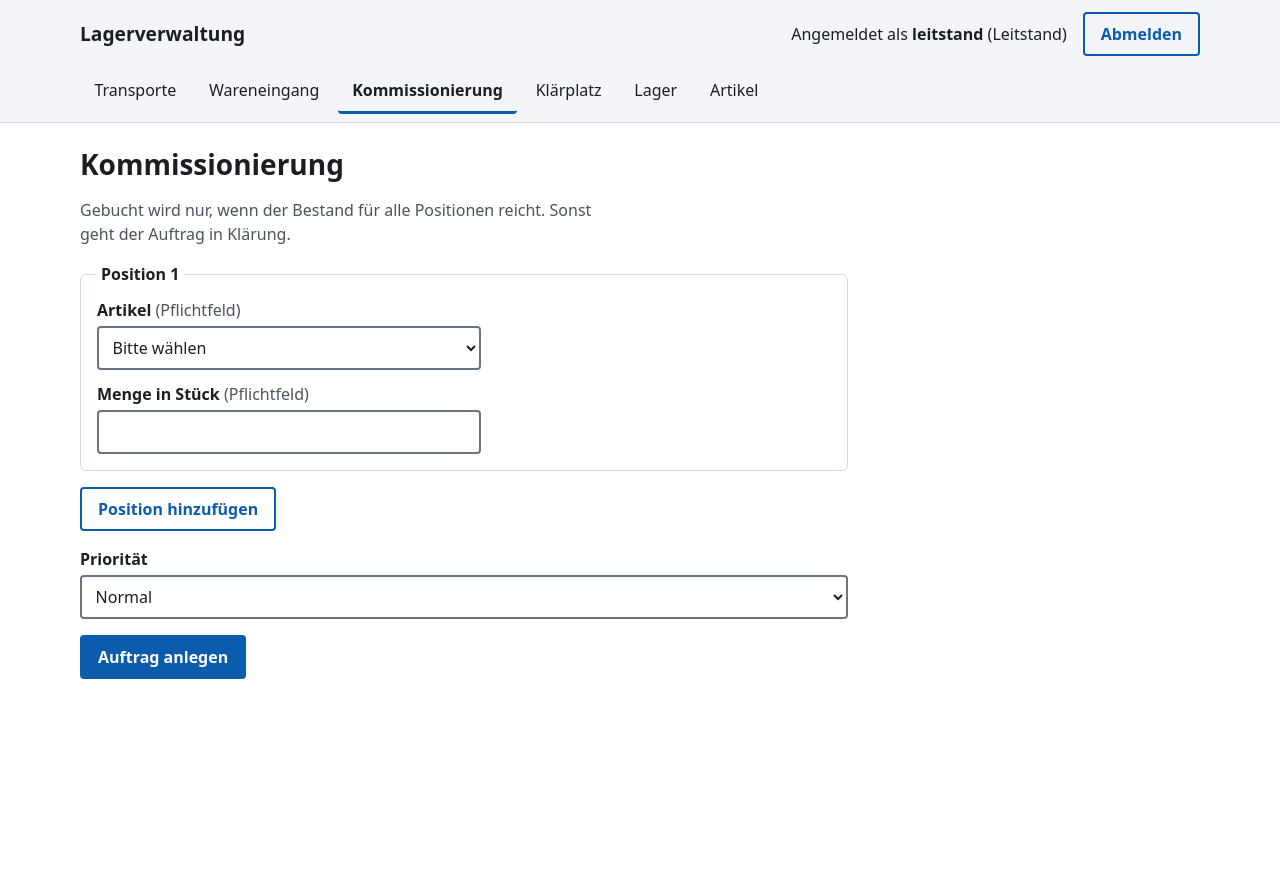
Kommissionierung: Fokus folgt beim Hinzufügen und Entfernen von Positionen
What coordinates should you click on to do the following:
click the button "Position hinzufügen"
I would click on:
 (178, 509)
Its box is [80, 487, 276, 531].
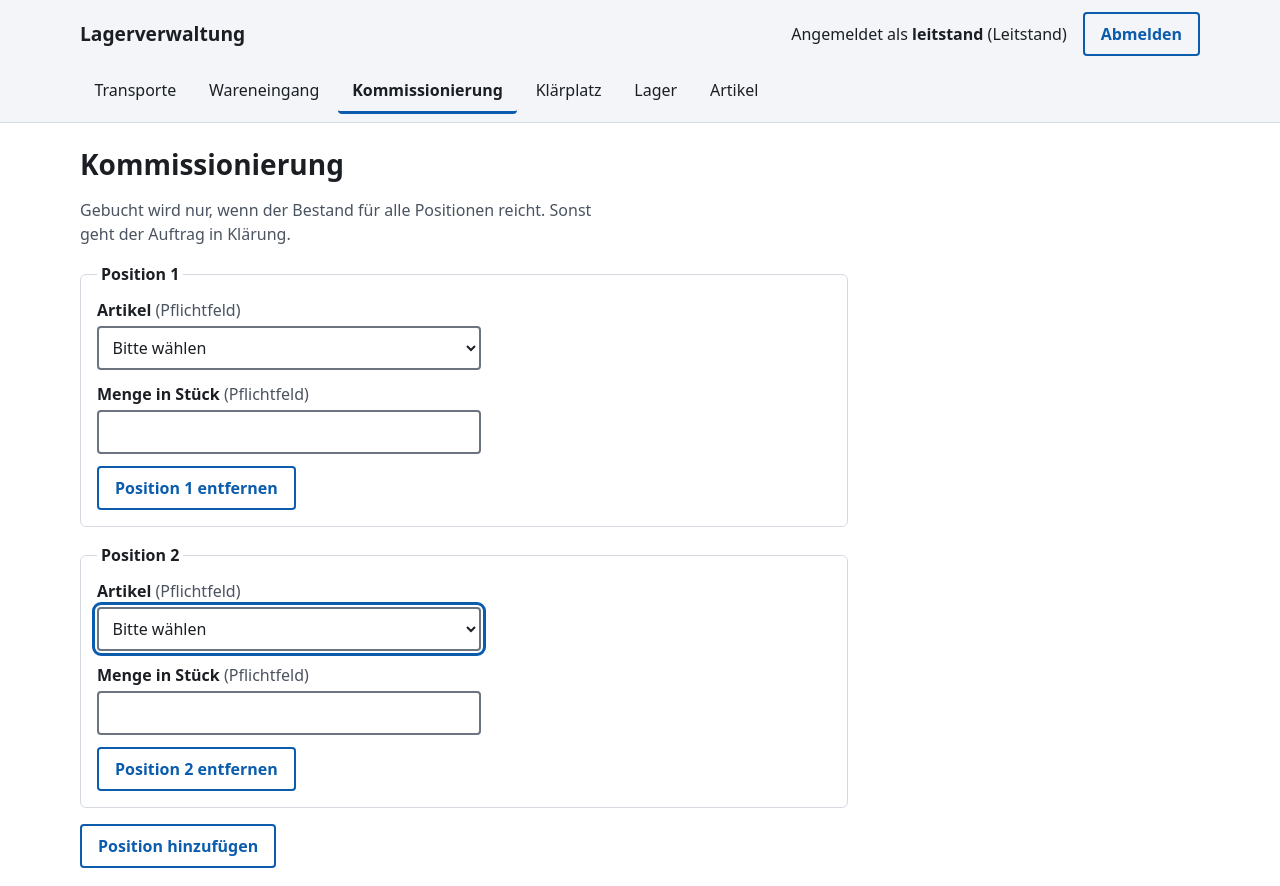
What coordinates should you click on to do the following:
click the button "Position 2 entfernen"
I would click on:
 (196, 769)
Its box is [97, 747, 296, 791].
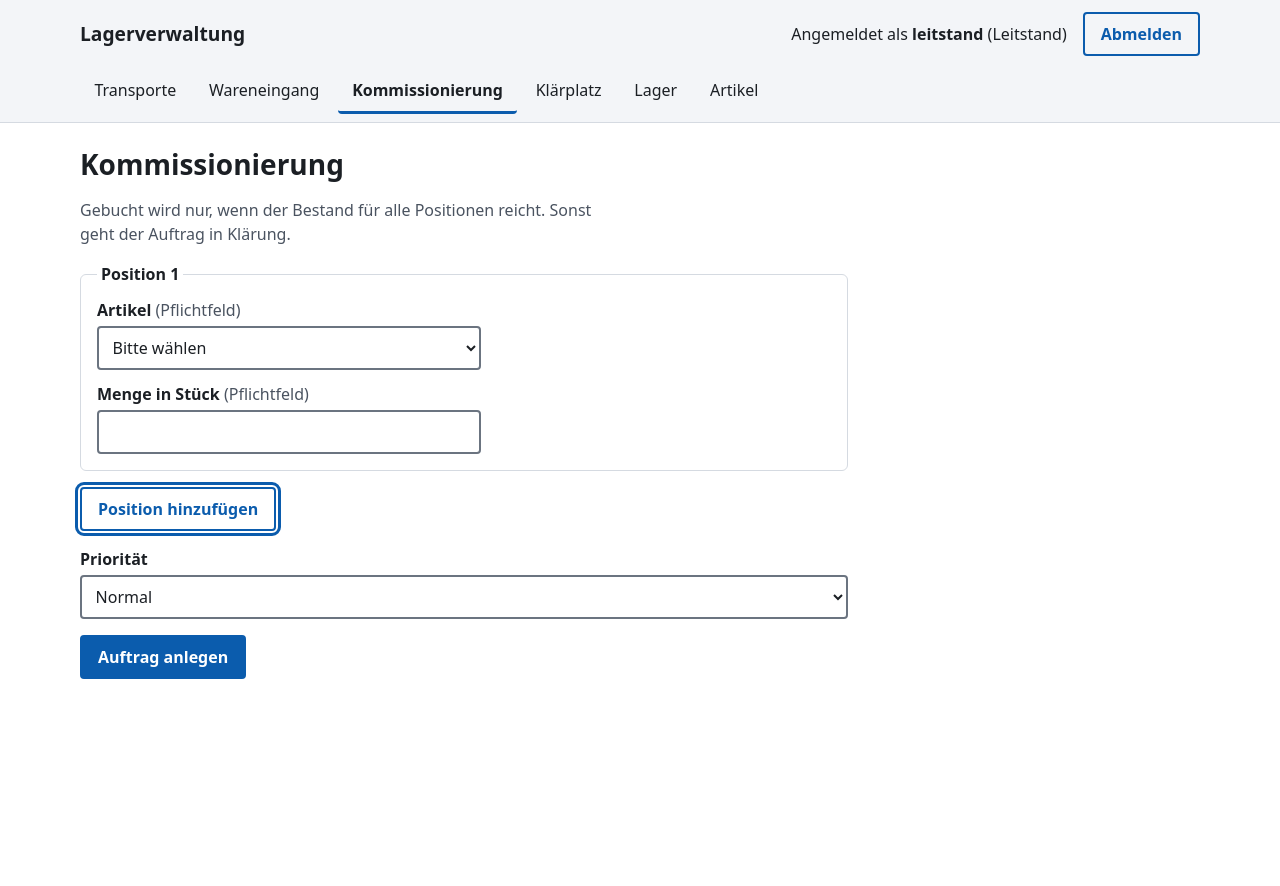
Now the text "Position 2" is gone
